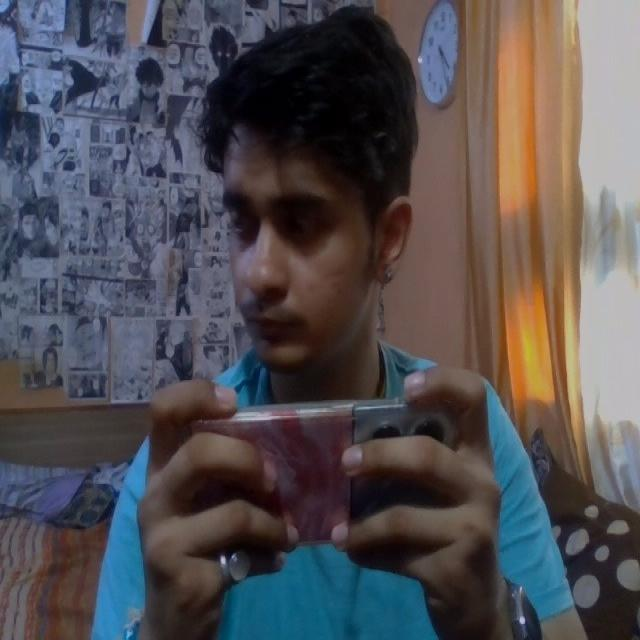phone: (188, 408, 463, 542)
using-phone: (89, 11, 589, 640)
